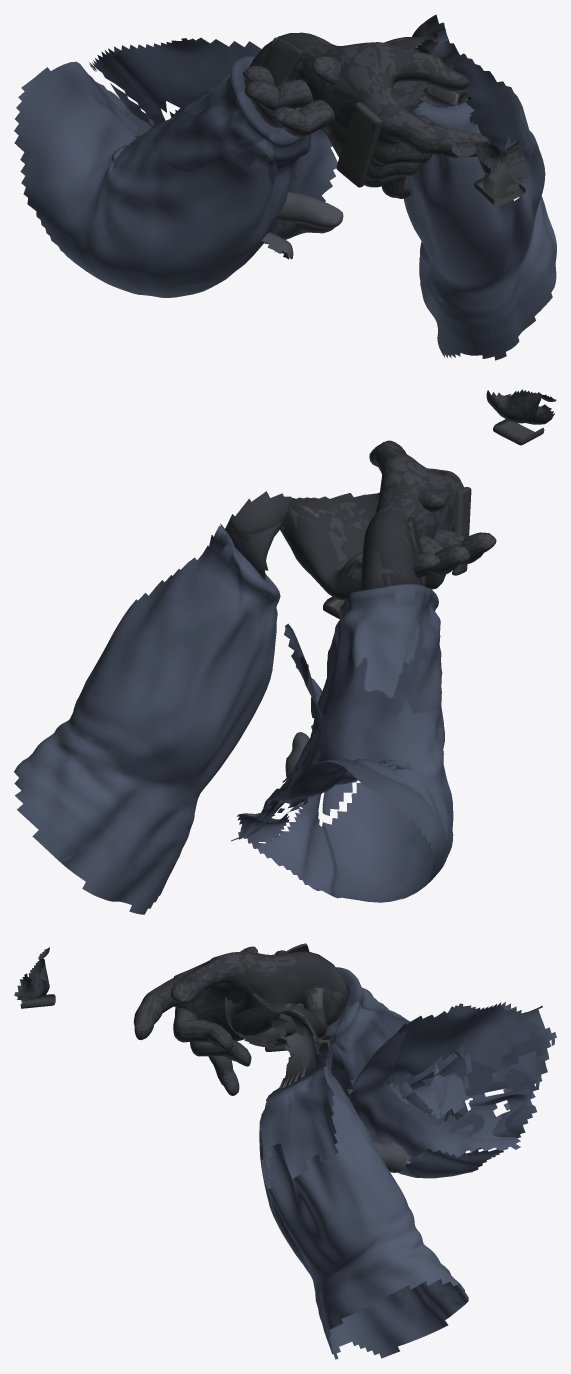
The model's file is muhafiz.fbx.
3 renders of one model, top to bottom at view 1: azimuth 30°, elevation 25°; view 2: azimuth 150°, elevation 25°; view 3: azimuth 270°, elevation 25°, orthographic. The views are drawn at different scales.
Parts seen in each view (by area): view 1: RightArm, LeftArm; view 2: LeftArm, RightArm; view 3: RightArm, LeftArm.
Part boxes in pixels (box(x1,y1,x2,y2)): RightArm: box(14, 32, 530, 297); LeftArm: box(243, 14, 556, 360); LeftArm: box(14, 489, 496, 914); RightArm: box(231, 389, 556, 902); RightArm: box(14, 943, 556, 1178); LeftArm: box(225, 946, 468, 1359).
Bounding box in the file's own units: 0.4288 × 0.3789 × 0.5459.
